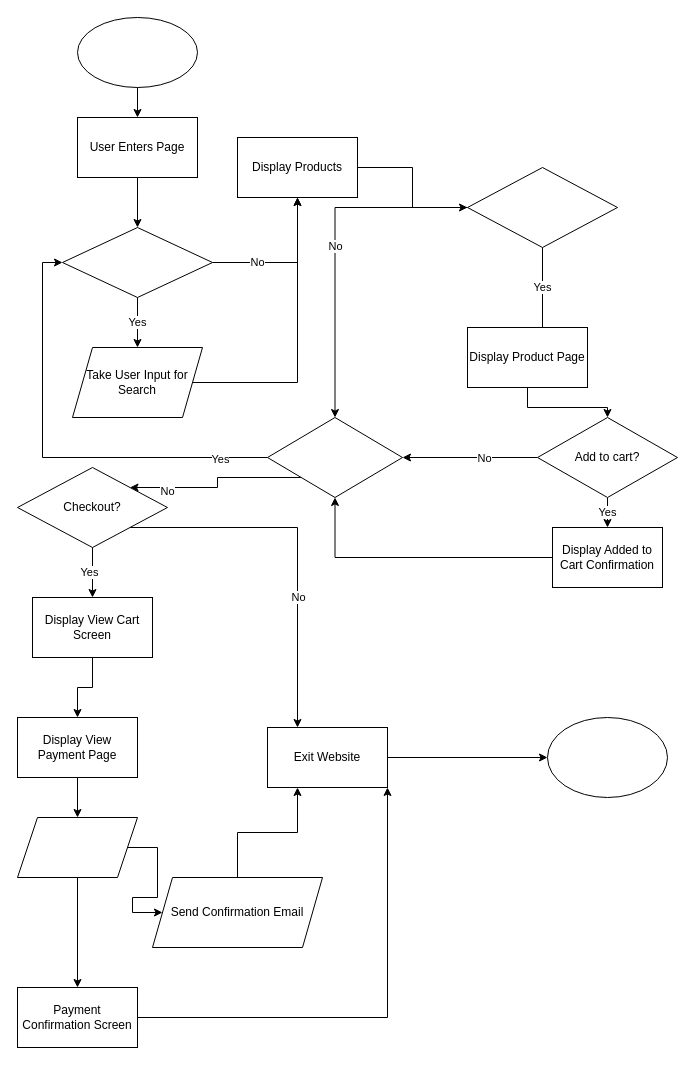
The diagram is 695 pixels wide and 1065 high, and some of its shapes have lost their labels. The shapes that lost their labels are listed below. From the top down, each one's centre as x and y in pixels, then its label:
point (137, 52): Start
point (542, 207): View Specific Product?
point (137, 262): Search for a Product?
point (334, 457): Continue Shopping?
point (607, 757): End
point (77, 847): Take payment information
